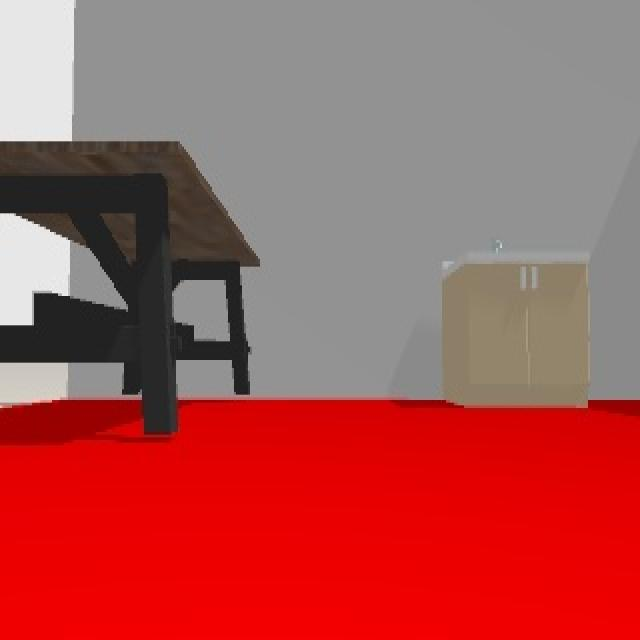dining: (2, 139, 262, 438)
